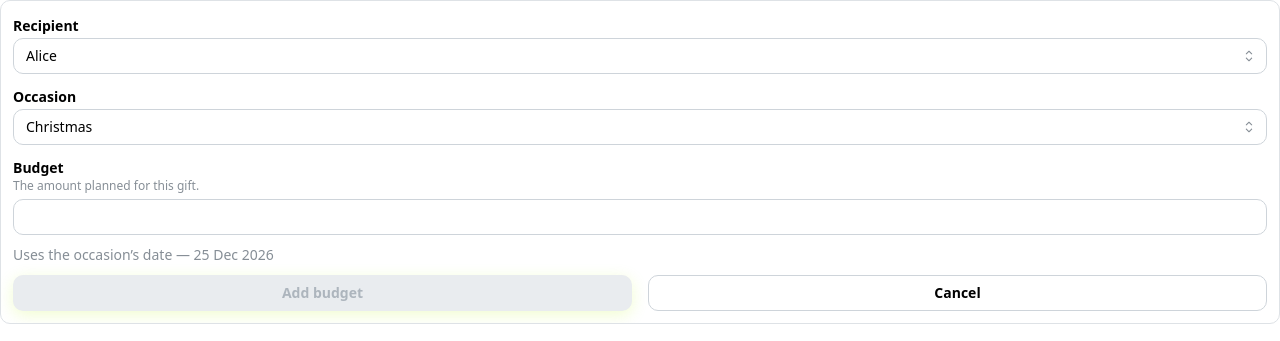
Test: GiftBudgetForm › disables submit until an amount is entered
Expected: the button "Add budget" is disabled, [13,275,632,311]
Type "25" into the field labelled "Budget" at [640, 217], box [13,199,1267,235]
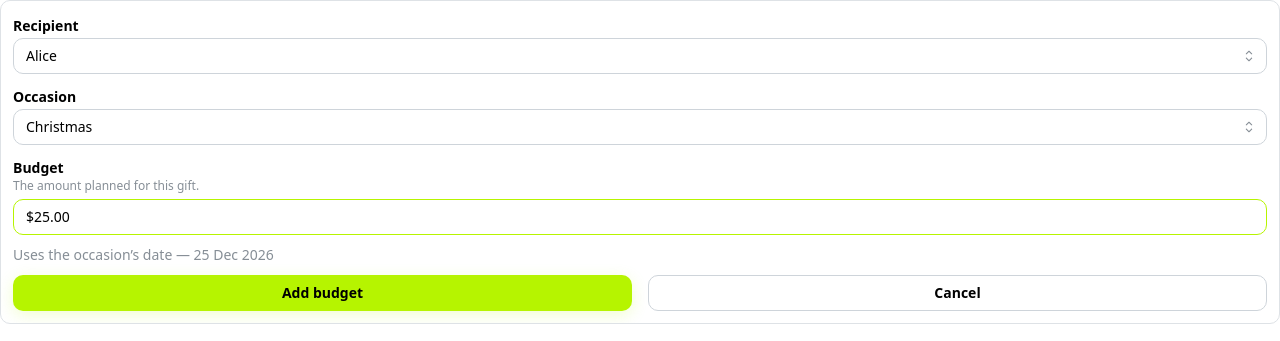
Expected: the button "Add budget" is enabled, [13,275,632,311]
